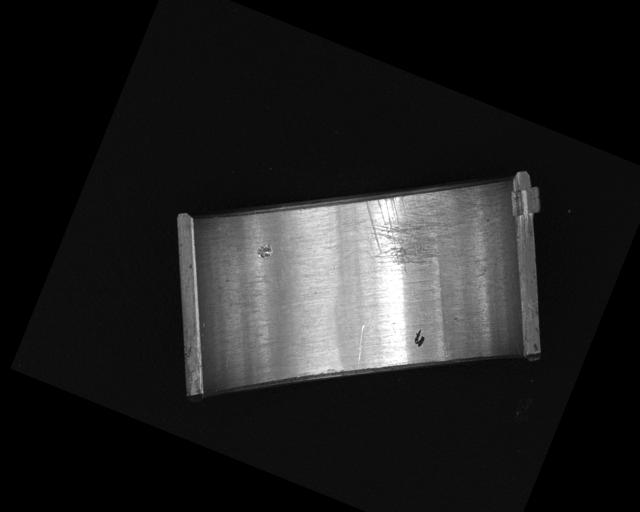blot: (411, 328, 428, 349)
bruise: (255, 239, 276, 261)
nick: (347, 323, 374, 367)
scratch: (347, 151, 478, 287)
